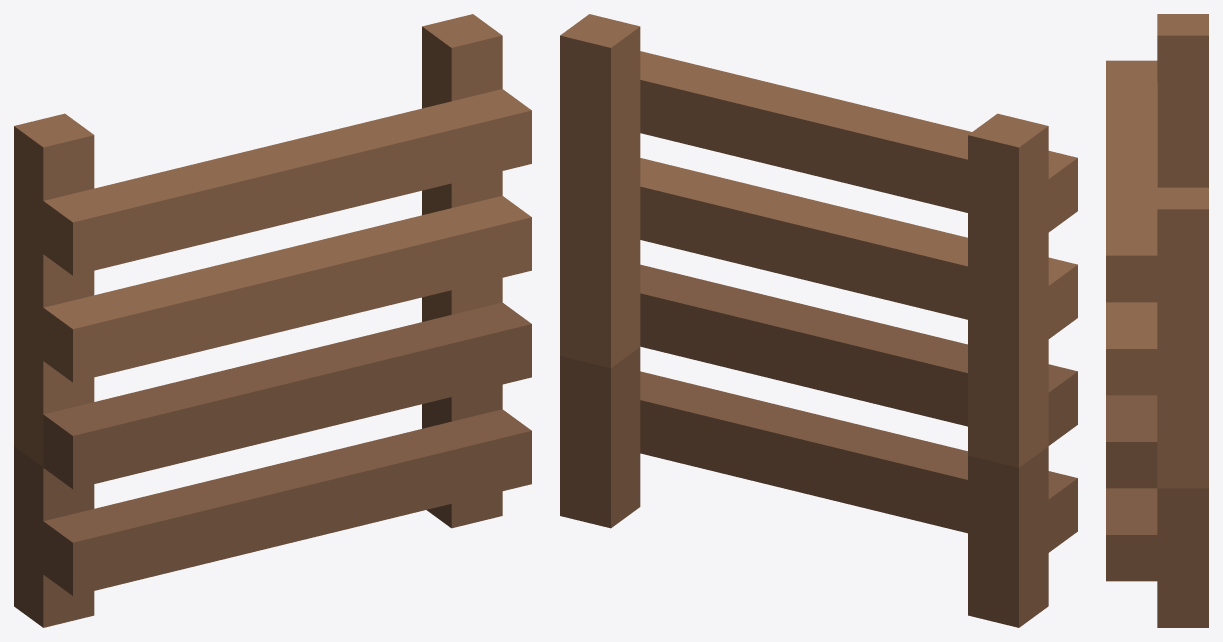
The model's file is ConstructionMaterials-100.obj.
3 views of the same model, side by side, from view 1: azimuth 30°, elevation 25°; view 2: azimuth 150°, elevation 25°; view 3: azimuth 270°, elevation 25° (orthographic). The views are drawn at different scales.
Size of the model in its own units: 0.9 by 0.9 by 0.2.
Materials: 1 (1 with a texture image).
